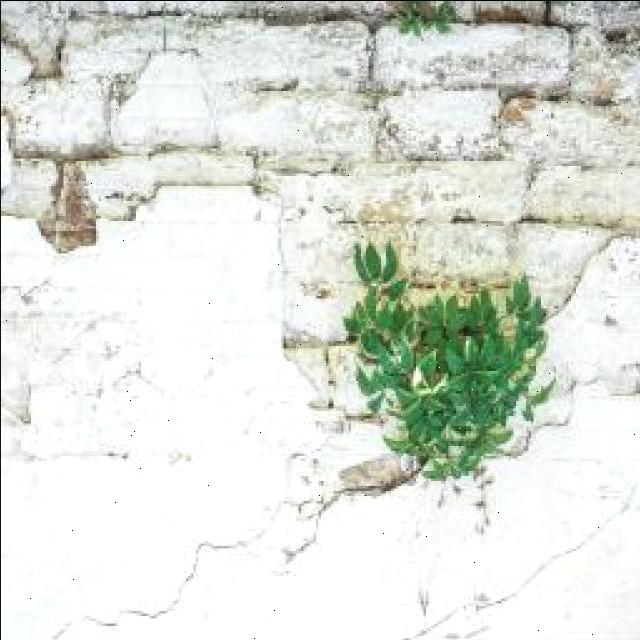crack: (6, 8, 362, 234), (97, 532, 244, 624), (348, 158, 534, 224), (7, 79, 125, 161), (505, 99, 640, 170), (520, 162, 640, 228), (65, 22, 169, 89), (365, 23, 377, 89), (52, 34, 68, 77), (160, 7, 169, 55), (542, 1, 554, 28)
dampness: (189, 13, 396, 452), (282, 175, 587, 331), (503, 76, 640, 401)
vegetation: (341, 238, 552, 481), (2, 253, 162, 461), (369, 2, 552, 99), (391, 0, 458, 36)
